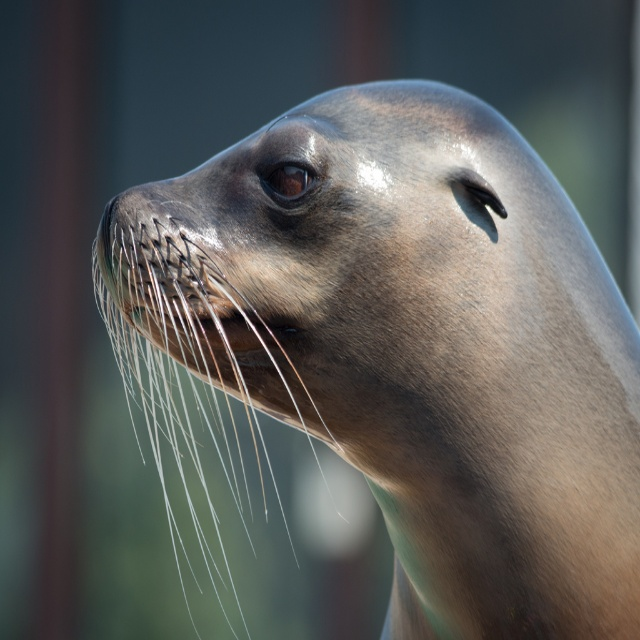Sea lion: (88, 83, 640, 639)
